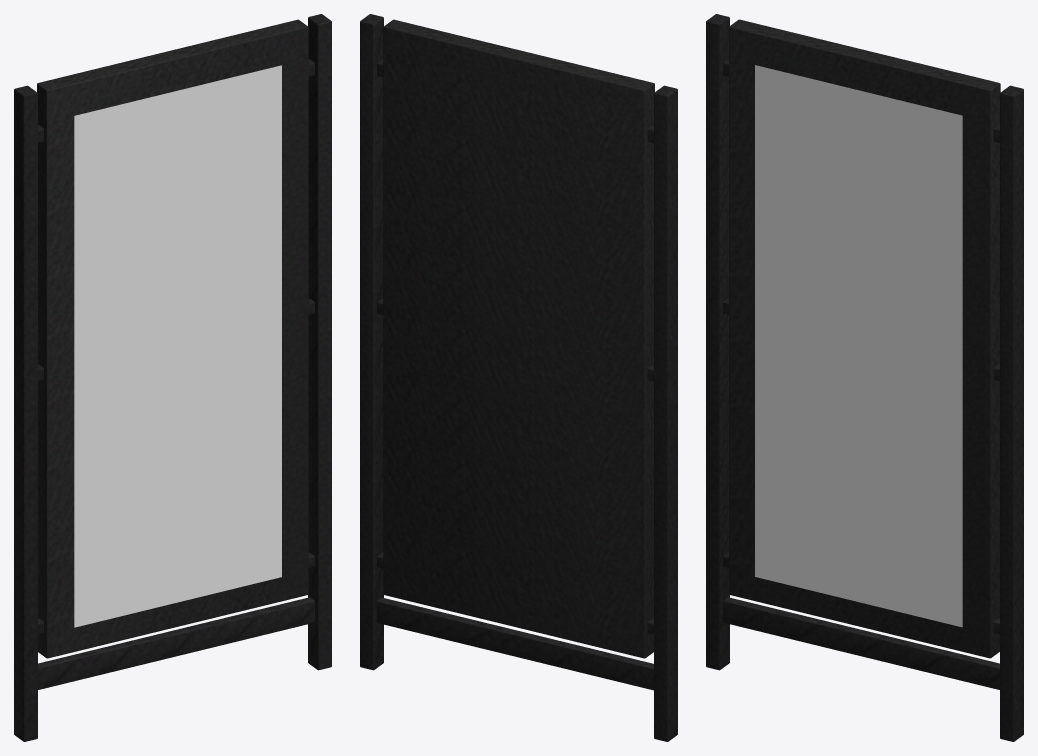
The model's file is 2-Leg_Outdoor_City_Floorstand.fbx.
3 views of the same model, side by side, from view 1: azimuth 30°, elevation 25°; view 2: azimuth 150°, elevation 25°; view 3: azimuth 330°, elevation 25° (orthographic).
Visible parts, largest first — view 1: 2-Leg_Outdoor_City_Floorstand_Ad001, 2-Leg_Outdoor_City_Floorstand_Frame; view 2: 2-Leg_Outdoor_City_Floorstand_Frame; view 3: 2-Leg_Outdoor_City_Floorstand_Ad001, 2-Leg_Outdoor_City_Floorstand_Frame.
Part boxes in pixels (x1,y1,x2,y2): 2-Leg_Outdoor_City_Floorstand_Ad001: (74,65,281,627); 2-Leg_Outdoor_City_Floorstand_Frame: (14,14,331,741); 2-Leg_Outdoor_City_Floorstand_Frame: (360,14,677,741); 2-Leg_Outdoor_City_Floorstand_Ad001: (755,65,962,627); 2-Leg_Outdoor_City_Floorstand_Frame: (706,14,1023,741).
Size of the model in its own units: 29.96 by 59.99 by 1.84.
2 materials, 2 textured.
